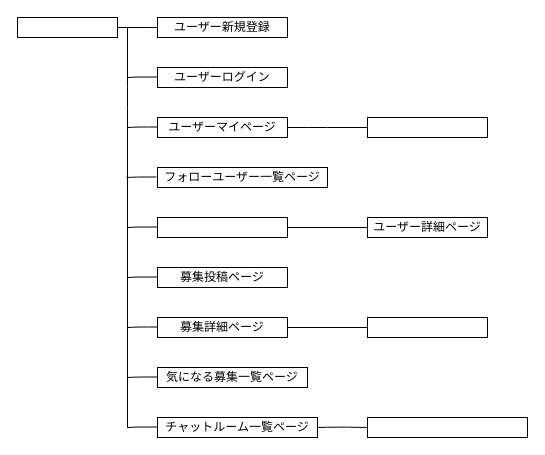
This 545x455 diagram has some shape labels left out. The box of each missing label's shape, as (x1, y1, x2, y2) in pixels:
チャットルーム作成ページ: (366, 416, 528, 438)
ユーザー一覧ページ: (156, 216, 288, 238)
ユーザー編集ページ: (366, 116, 488, 138)
募集編集ページ: (366, 316, 488, 338)
投稿一覧ページ: (16, 16, 118, 38)
